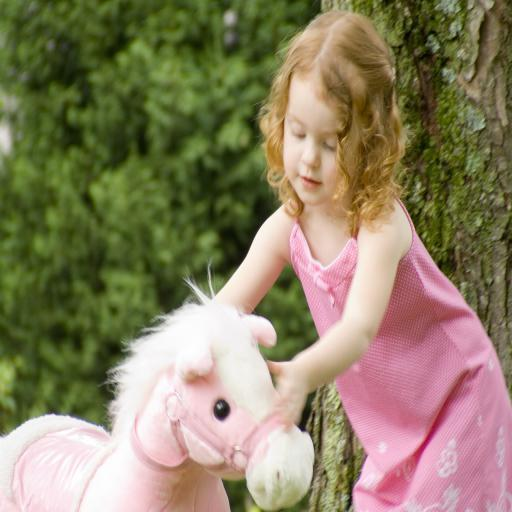horse: (0, 256, 316, 512)
